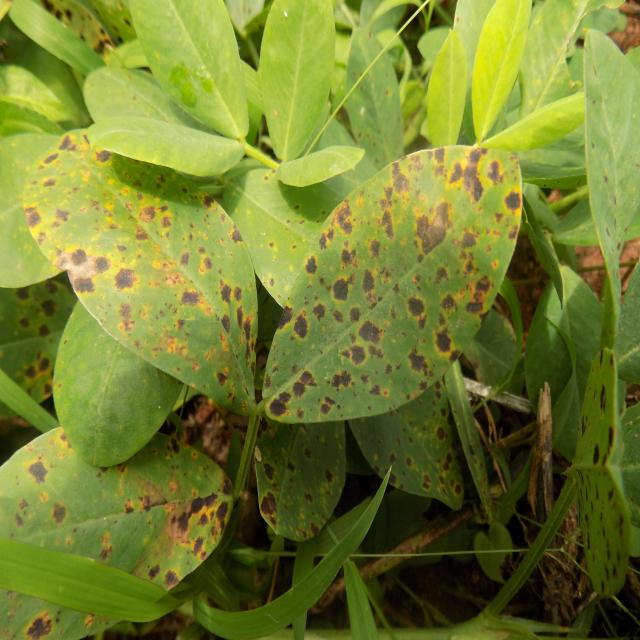Ground nut_healthy: (127, 2, 251, 138), (259, 0, 333, 157)
Ground nut_tikka leaf spot: (268, 146, 522, 422), (27, 127, 260, 420), (1, 431, 231, 636), (349, 384, 471, 507), (256, 414, 348, 547)
